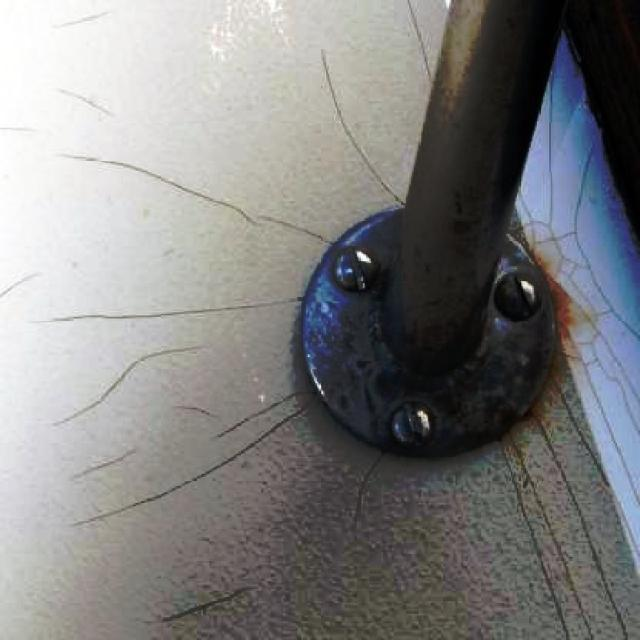crack: (57, 383, 326, 543), (32, 332, 238, 437), (72, 149, 276, 237), (304, 76, 420, 222), (51, 294, 317, 318), (151, 578, 254, 634), (248, 198, 344, 256), (64, 442, 156, 496), (168, 383, 220, 422)
